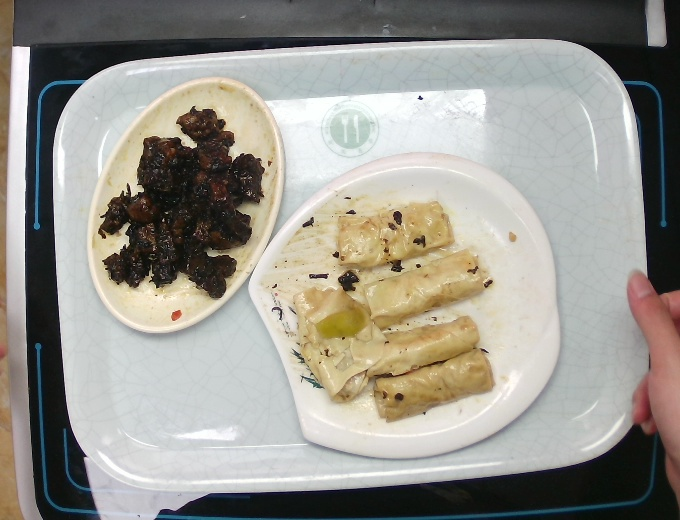JYsf-Mian_Pan: (244, 146, 565, 464)
JYsf-Tuo_Yuan_Wan: (82, 72, 291, 338)
